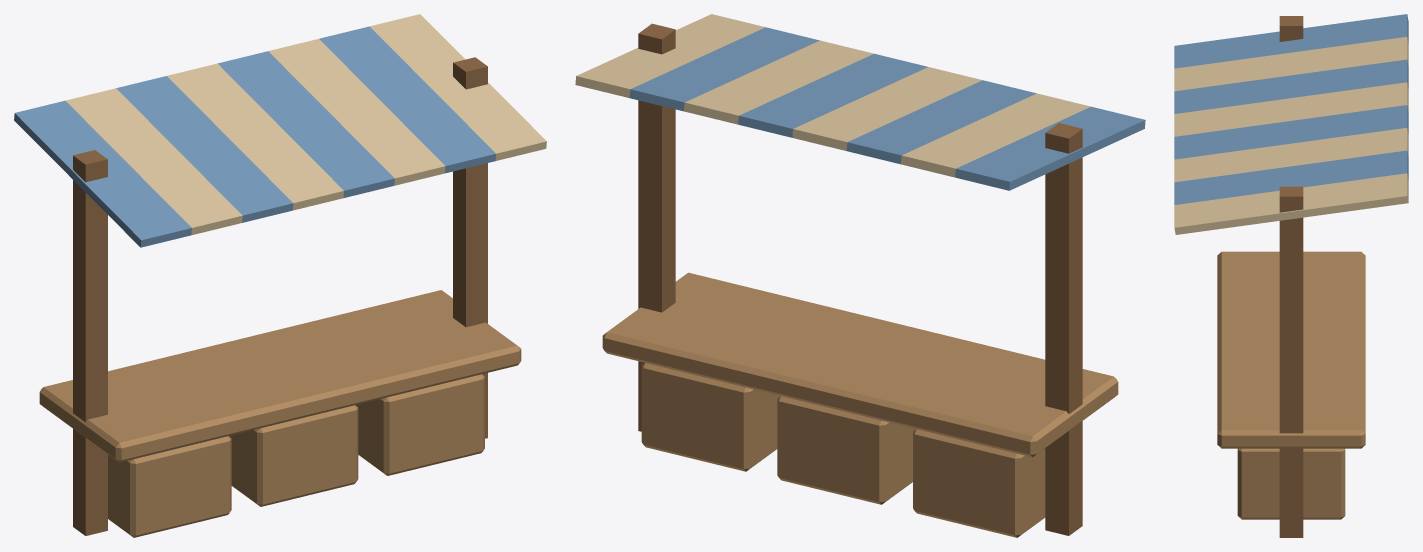
Rendered from ResourceStall.glb.
3 views of the same model, side by side, from view 1: azimuth 30°, elevation 25°; view 2: azimuth 150°, elevation 25°; view 3: azimuth 270°, elevation 25° (orthographic). The views are drawn at different scales.
Parts seen in each view (by area): view 1: Counter, AwningPost, GoodsCrate.001, GoodsCrate.002, GoodsCrate, AwningStripe, AwningStripe.006, AwningStripe.005, AwningStripe.004, AwningStripe.001, AwningStripe.003, AwningStripe.002 (+2 smaller); view 2: Counter, AwningPost, GoodsCrate.002, GoodsCrate.001, GoodsCrate, AwningPost.001, AwningStripe, AwningStripe.004, AwningStripe.005, AwningStripe.001, AwningStripe.003, AwningStripe.002 (+2 smaller); view 3: Counter, AwningPost.001, AwningStripe.007, GoodsCrate.002, AwningStripe.003, AwningStripe.004, AwningStripe.005, AwningStripe.001, AwningStripe.002, AwningStripe.006, AwningStripe, AwningPost.
Part boxes in pixels (x1,y1,x2,y2): Counter: (39,290,521,462); AwningPost: (73,150,107,535); GoodsCrate.001: (229,405,358,506); GoodsCrate.002: (355,374,484,475); GoodsCrate: (108,436,231,537); AwningStripe: (14,100,191,247); AwningStripe.006: (319,26,496,173); AwningStripe.005: (268,39,445,185); AwningStripe.004: (218,51,394,197); AwningStripe.001: (65,88,242,235); AwningStripe.003: (167,63,343,210); AwningStripe.002: (116,76,293,222); Counter: (602,272,1118,457); AwningPost: (1045,123,1082,535); GoodsCrate.002: (641,363,779,471); GoodsCrate.001: (777,396,915,504); GoodsCrate: (913,429,1045,537); AwningPost.001: (638,23,675,431); AwningStripe: (955,106,1145,190); AwningStripe.004: (738,53,927,137); AwningStripe.005: (684,40,873,124); AwningStripe.001: (901,93,1090,177); AwningStripe.003: (792,67,982,150); AwningStripe.002: (846,80,1036,164); Counter: (1217,251,1365,448); AwningPost.001: (1279,186,1303,537); AwningStripe.007: (1174,173,1408,234); GoodsCrate.002: (1237,448,1345,519); AwningStripe.003: (1174,82,1408,136); AwningStripe.004: (1174,105,1408,159); AwningStripe.005: (1174,128,1408,182); AwningStripe.001: (1174,37,1408,91); AwningStripe.002: (1174,59,1408,113); AwningStripe.006: (1174,150,1408,204); AwningStripe: (1174,14,1408,68); AwningPost: (1279,16,1303,41).
Size of the model in its own units: 6.4 by 5.62 by 3.48.
